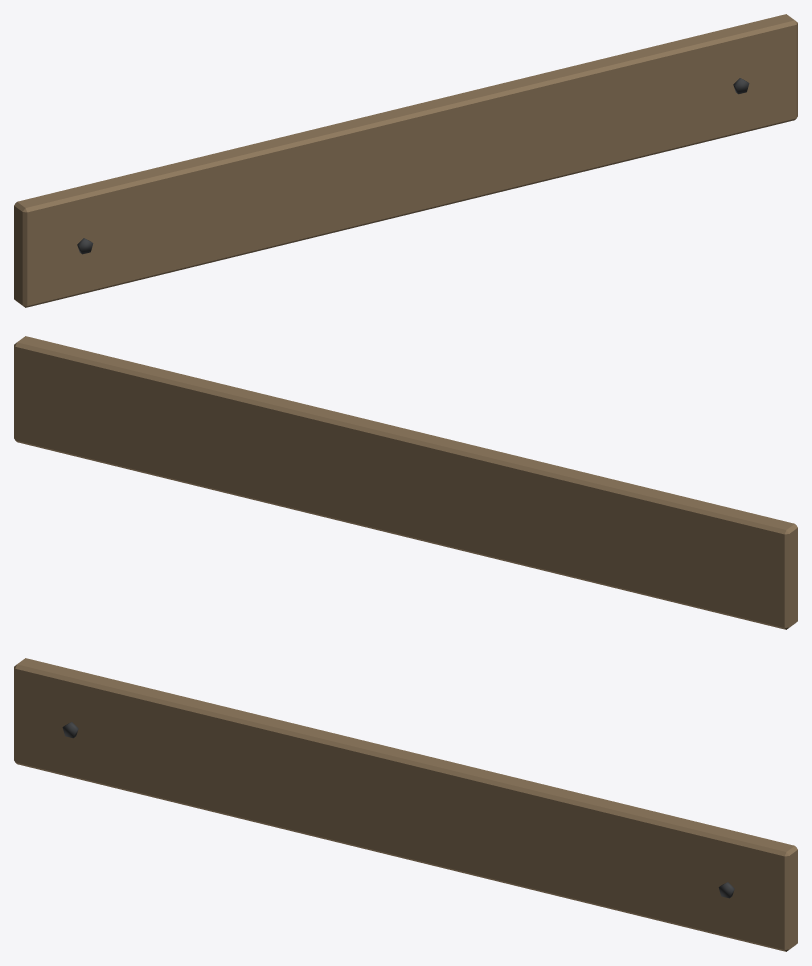
Rendered from plank.glb.
The picture shows the model from 3 angles, top to bottom: view 1: azimuth 30°, elevation 25°; view 2: azimuth 150°, elevation 25°; view 3: azimuth 330°, elevation 25°; orthographic projection.
Parts seen in each view (by area): view 1: Plank; view 2: Plank; view 3: Plank.
Part boxes in pixels (x1,y1,x2,y2): Plank: (14,14,797,307); Plank: (14,336,797,629); Plank: (14,658,797,951).
Size of the model in its own units: 1.3 by 0.16 by 0.0425.
